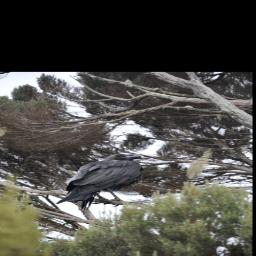Crow: (57, 153, 144, 212)
